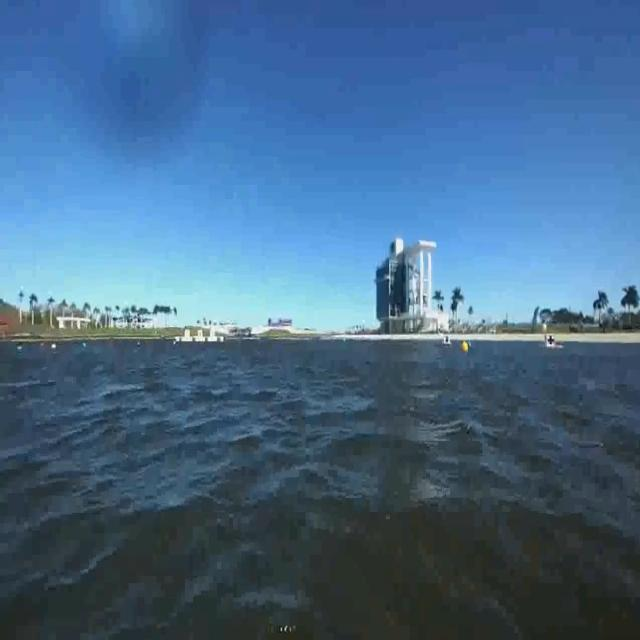yellow-buoy: (462, 342, 469, 354)
